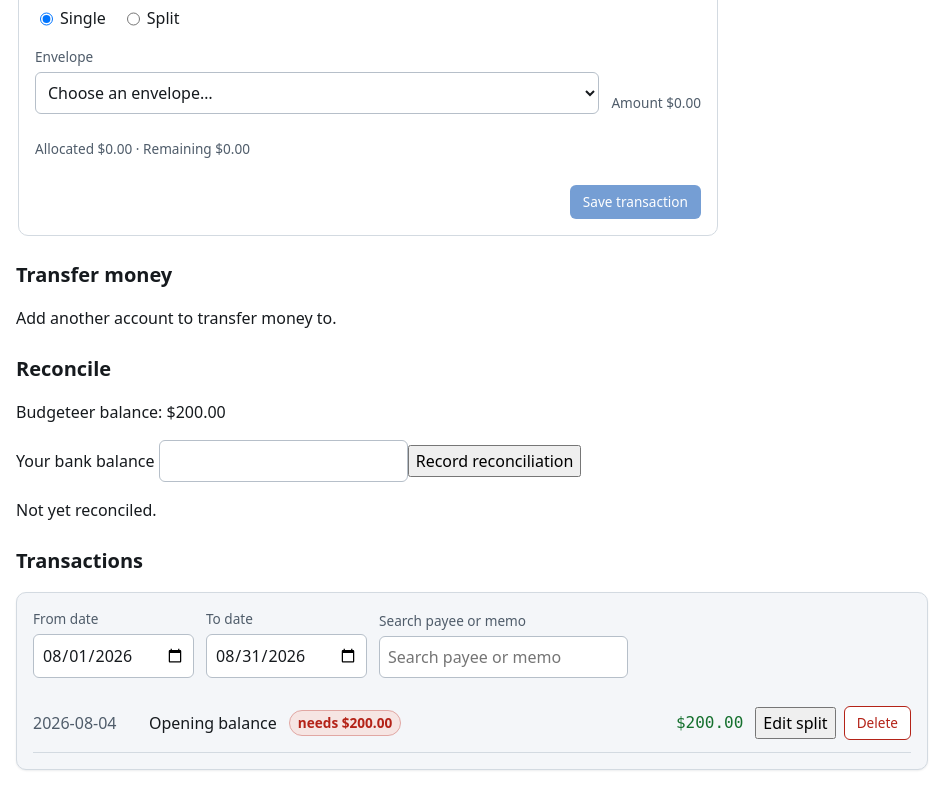
ReconcilePanel (FEAT-010) › a matching balance reconciles cleanly
The image size is (945, 794).
(page scrolled)
In the field labelled "bank balance": (283, 462) x1=159 y1=440 x2=408 y2=482, type "200.00"
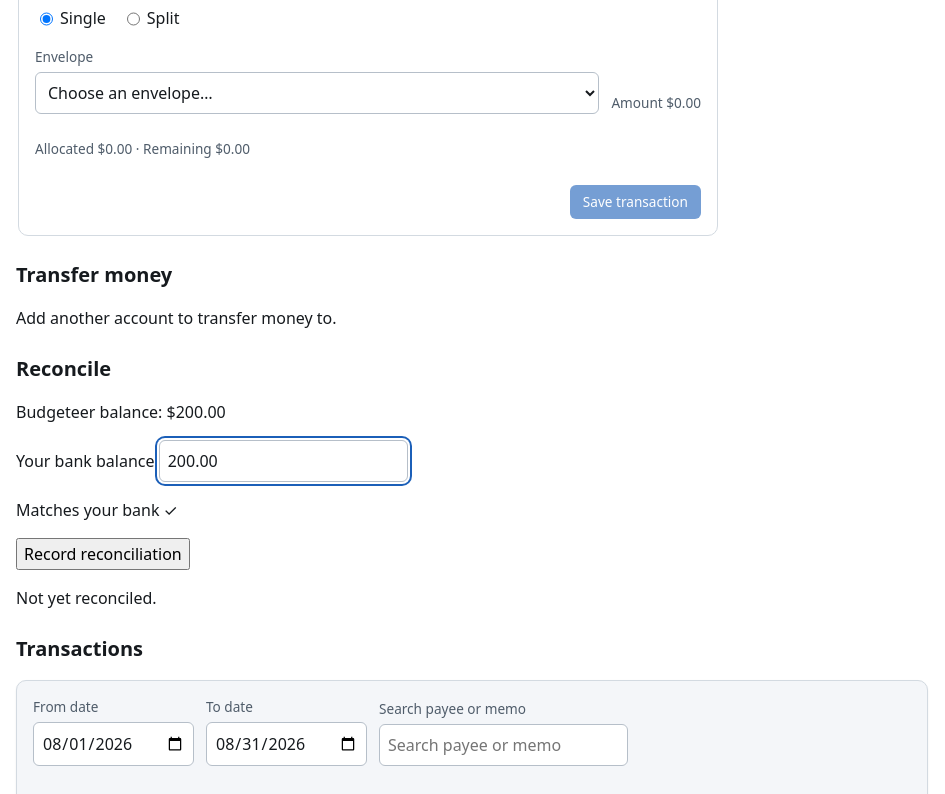
Expected: the text "Matches your bank ✓" is shown, x1=16 y1=500 x2=178 y2=522
Click the button "Record reconciliation": (103, 554) x1=16 y1=538 x2=190 y2=570
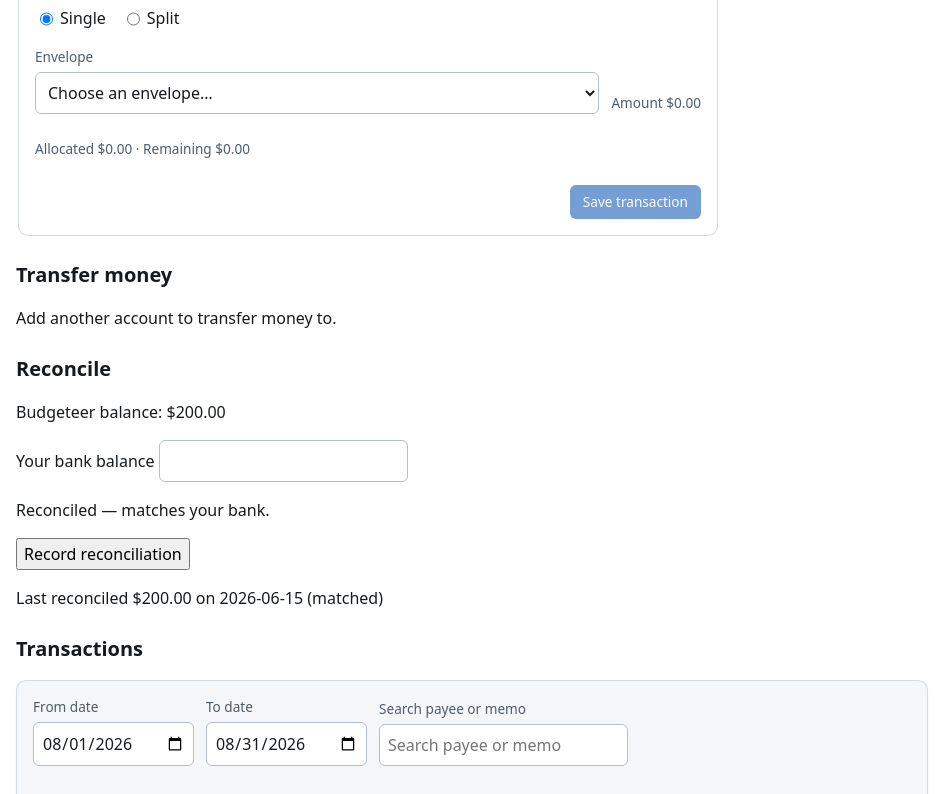
Expected: the text "Reconciled — matches your bank." is shown, x1=16 y1=500 x2=270 y2=522
